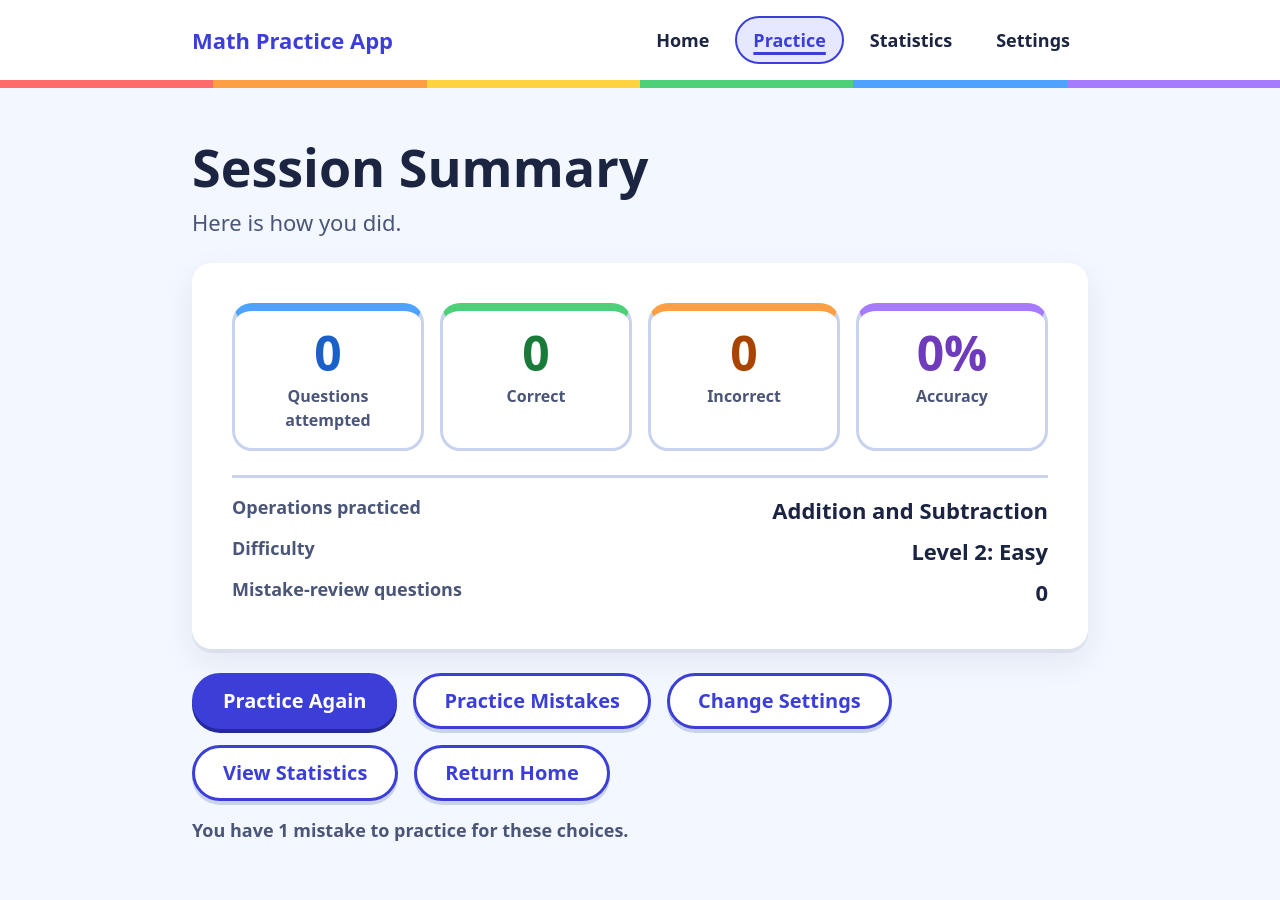
Test: SessionSummaryPage › actions › after a mistake-review session › keeps the review in the choices that Change Settings carries over
This screenshot has width=1280, height=900.
Click the link "Change Settings": (779, 701) [667, 673, 892, 729]
(page scrolled)
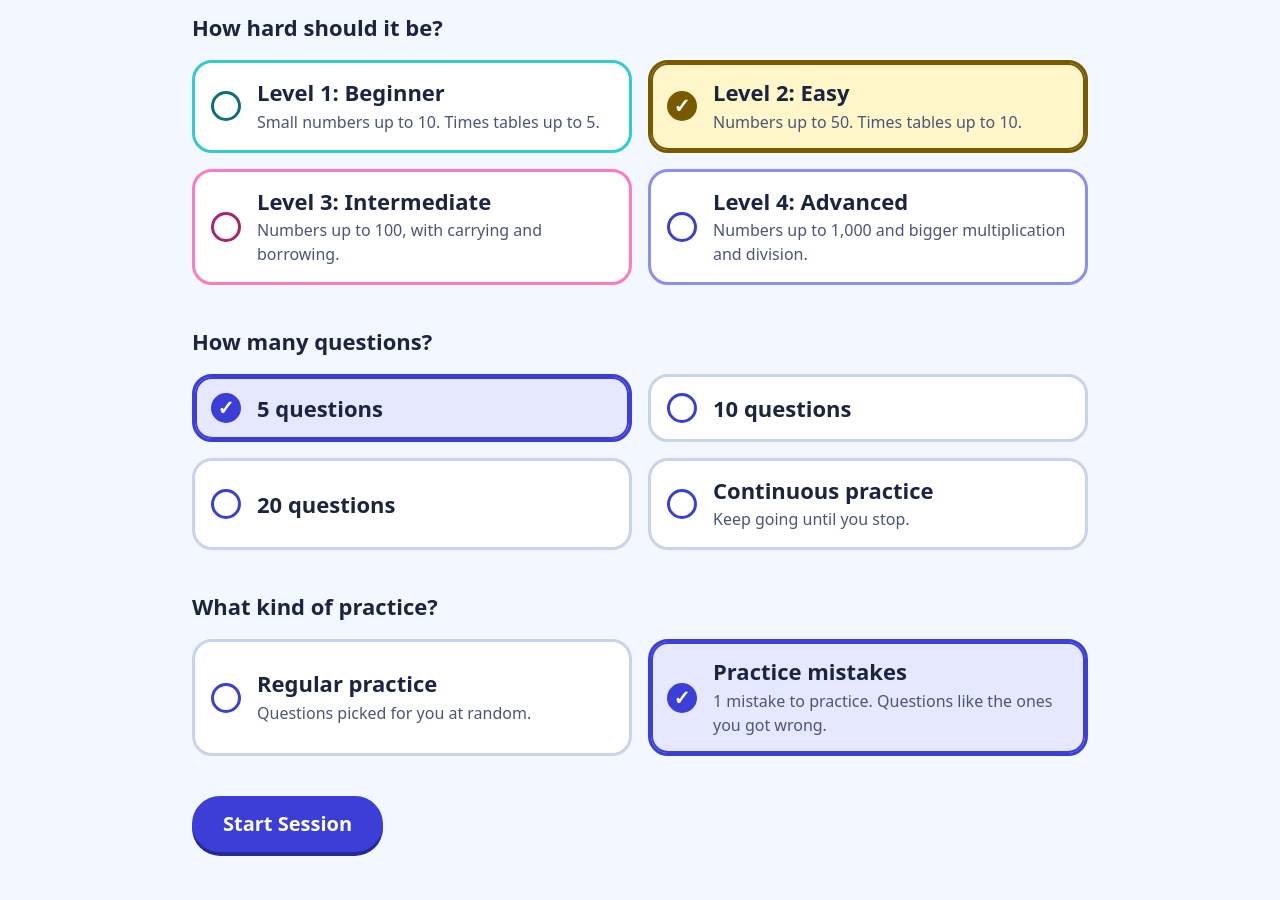
Expected: the radio button labelled "Practice mistakes" is checked, [648, 639, 1088, 756]
